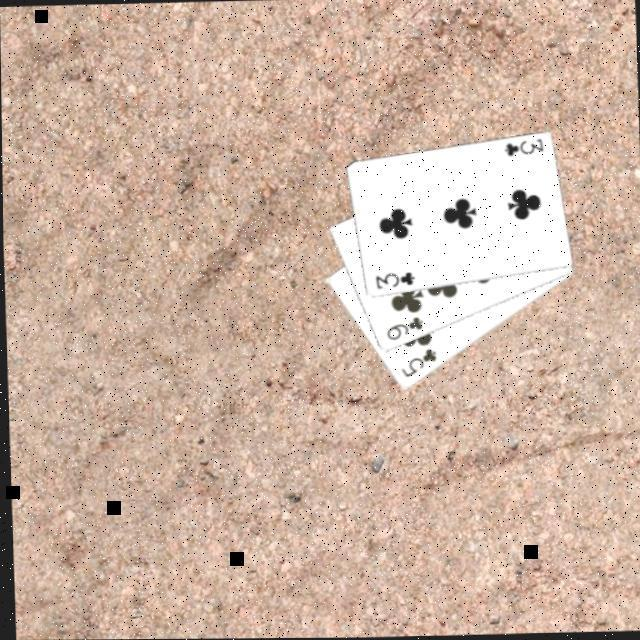3C: (498, 134, 542, 158), (369, 267, 414, 290)
5C: (394, 343, 436, 379)
9C: (378, 310, 424, 342)
